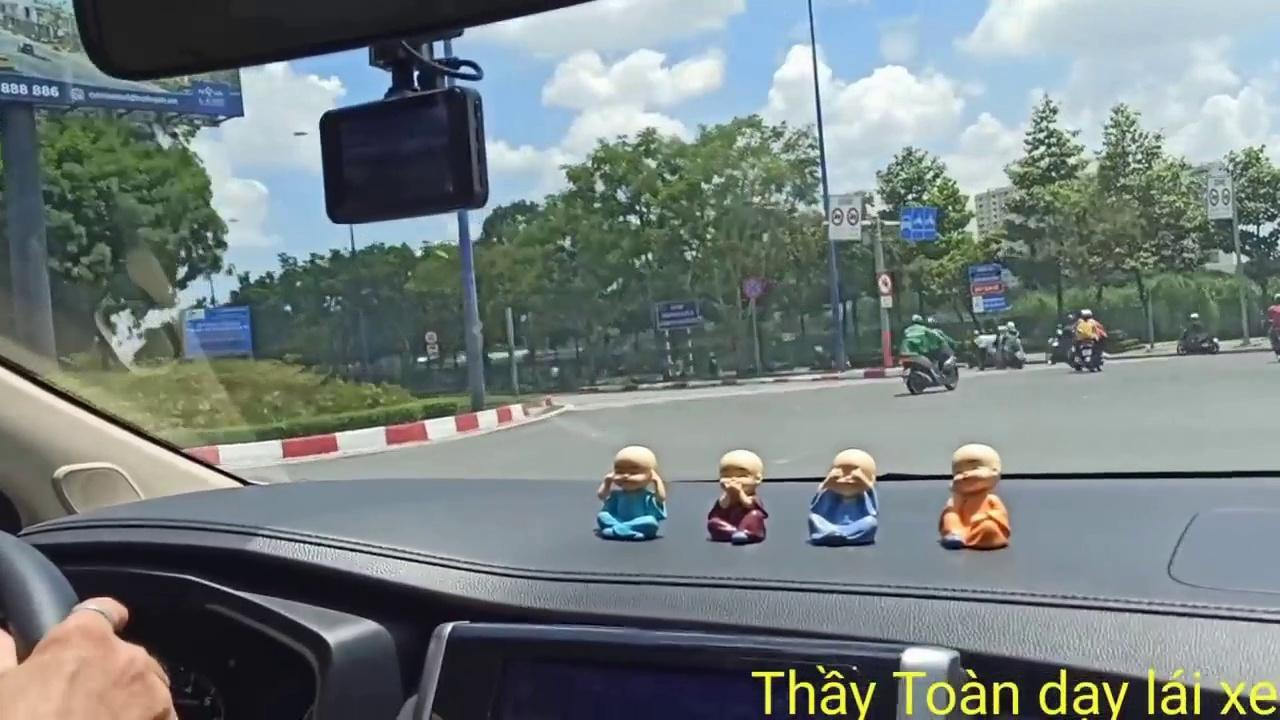Cấm cac phương tiện hoạt động trong khung giờ cố định: (828, 194, 862, 242)
Cấm dừng - Cấm đỗ: (742, 274, 762, 299)
Cấm xe máy: (876, 272, 897, 296)
Khác: (178, 306, 255, 360), (966, 264, 1008, 314)
Làn đường cho từng xe: (898, 202, 938, 243)
